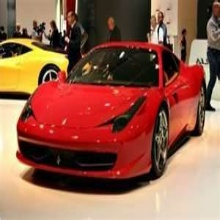no damage: (17, 40, 207, 179), (1, 36, 70, 102)
